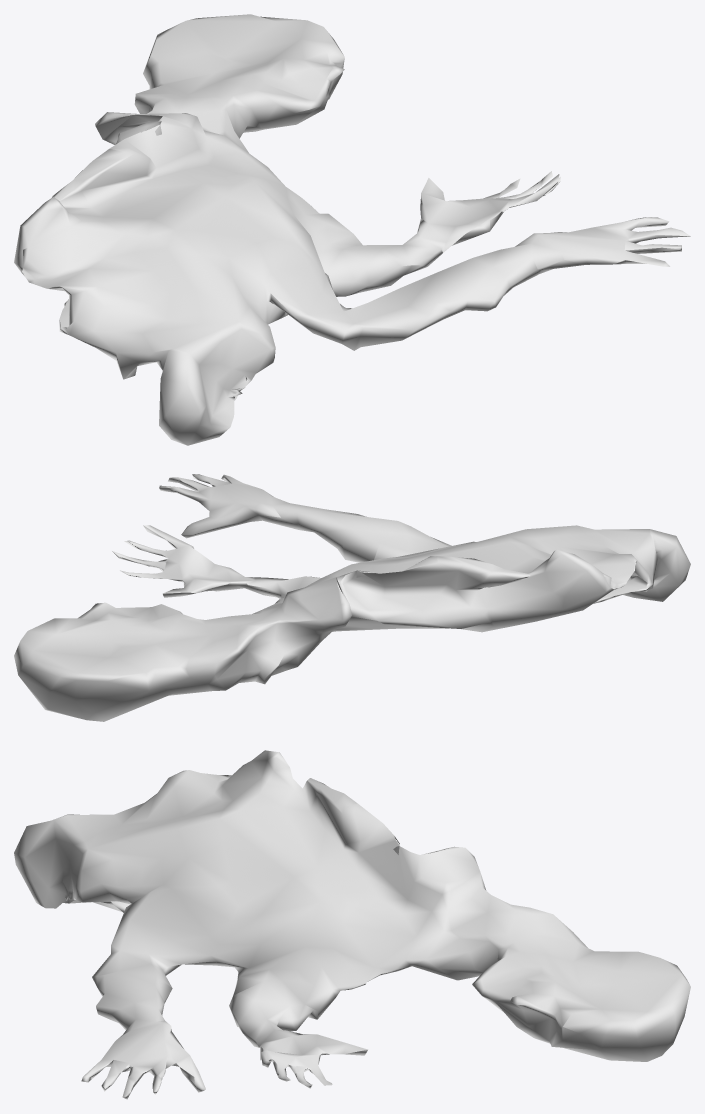
Rendered from Grandma Skin_LOD1.fbx.
3 renders of one model, top to bottom at view 1: azimuth 30°, elevation 25°; view 2: azimuth 150°, elevation 25°; view 3: azimuth 270°, elevation 25°, orthographic. The views are drawn at different scales.
Visible parts, largest first — view 1: Layer_1; view 2: Layer_1; view 3: Layer_1.
Boxes of the visible parts, box(x1,y1,x2,y2) form: Layer_1: box(14, 14, 690, 445); Layer_1: box(14, 474, 690, 721); Layer_1: box(14, 750, 690, 1099).
Size of the model in its own units: 0.7655 by 0.8171 by 0.187.
1 material, 1 textured.
